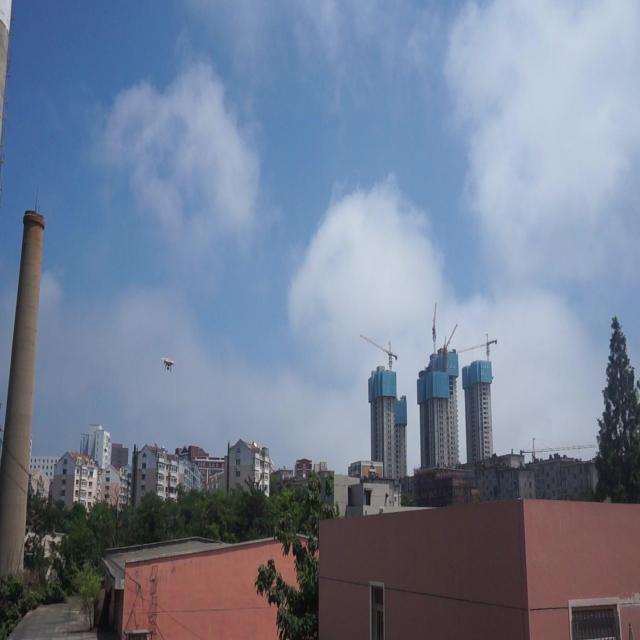UAV: (160, 356, 178, 372)
